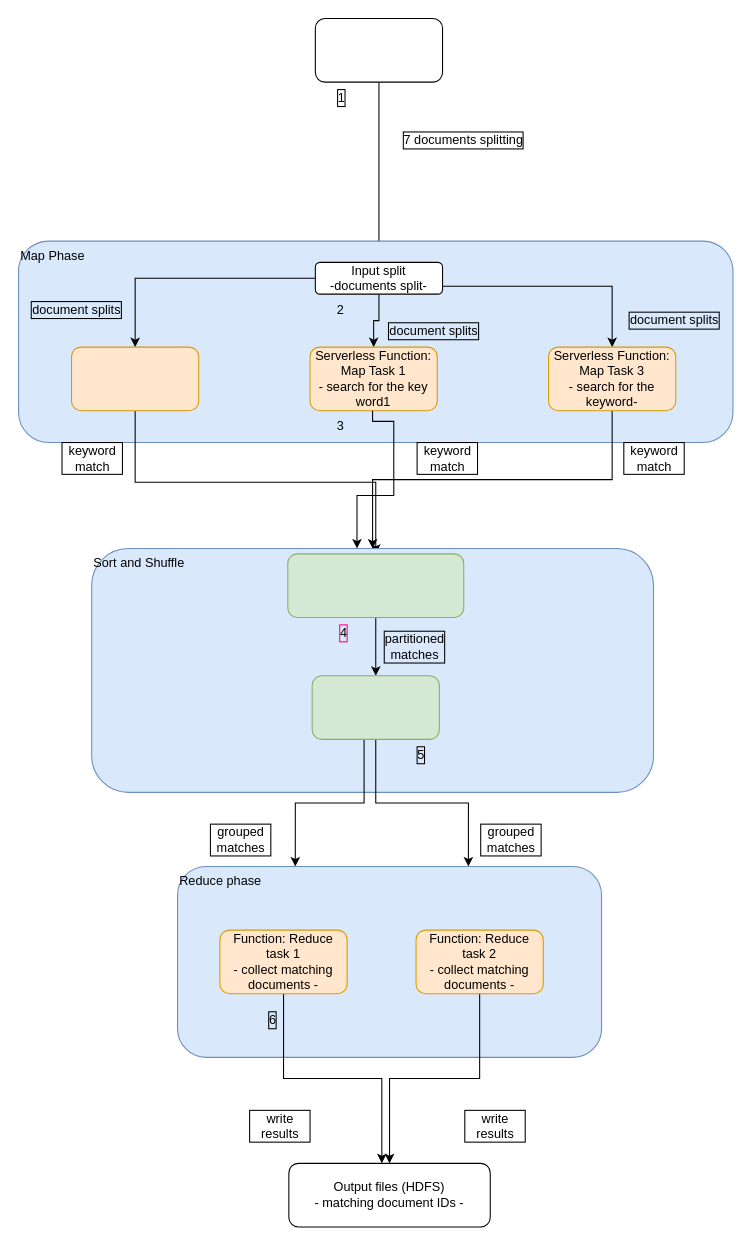
This 752x1245 diagram has some shape labels left out. The shapes that lost their labels are listed below. From the top down, each one's centre as x and y in pixels, then its label:
[378,49]: Input 7 documents
[134,378]: Serverless Function: Map Task 2 - search for the key word -
[375,585]: ETL Pipeline: Combiner and partitioner -partition matching documents-
[375,707]: ETL Pipeline: Shuffle and sort -group matches by keyword-
